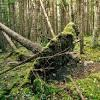Downstairs: (0, 20, 78, 81)
